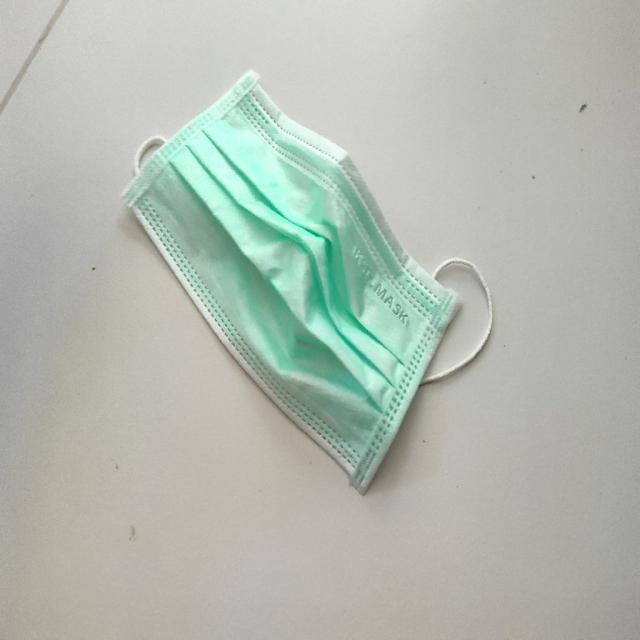non-organic waste: (122, 73, 494, 505)
